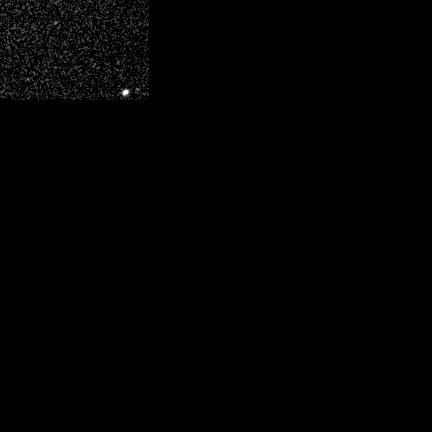blob: (123, 90, 128, 95)
